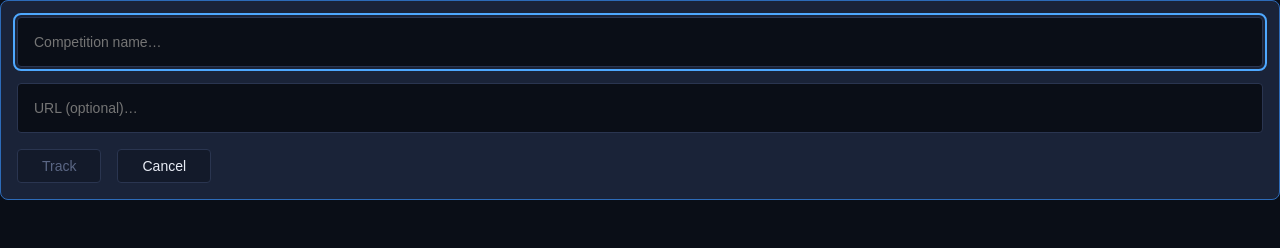
Test: CompetitionForm › renders the API's own error message on failure
Type "x" into the field with placeholder "Competition name…". click: (640, 42)
box: x1=17 y1=17 x2=1263 y2=67
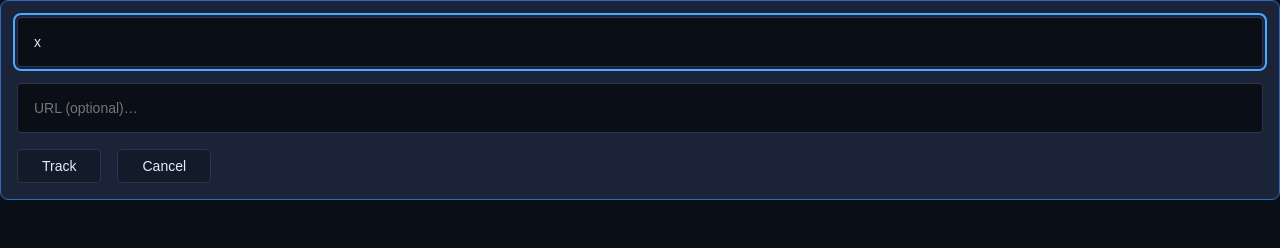
Click the button "Track". click: click(59, 166)
box: x1=17 y1=149 x2=102 y2=183
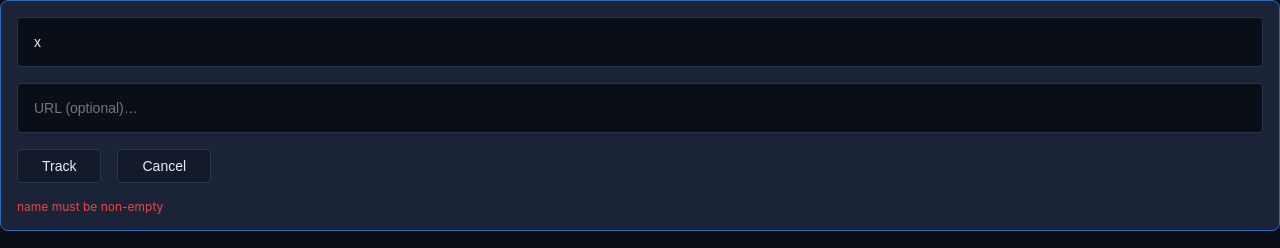
Expected: the text "name must be non-empty" is shown, x1=17 y1=199 x2=163 y2=214
